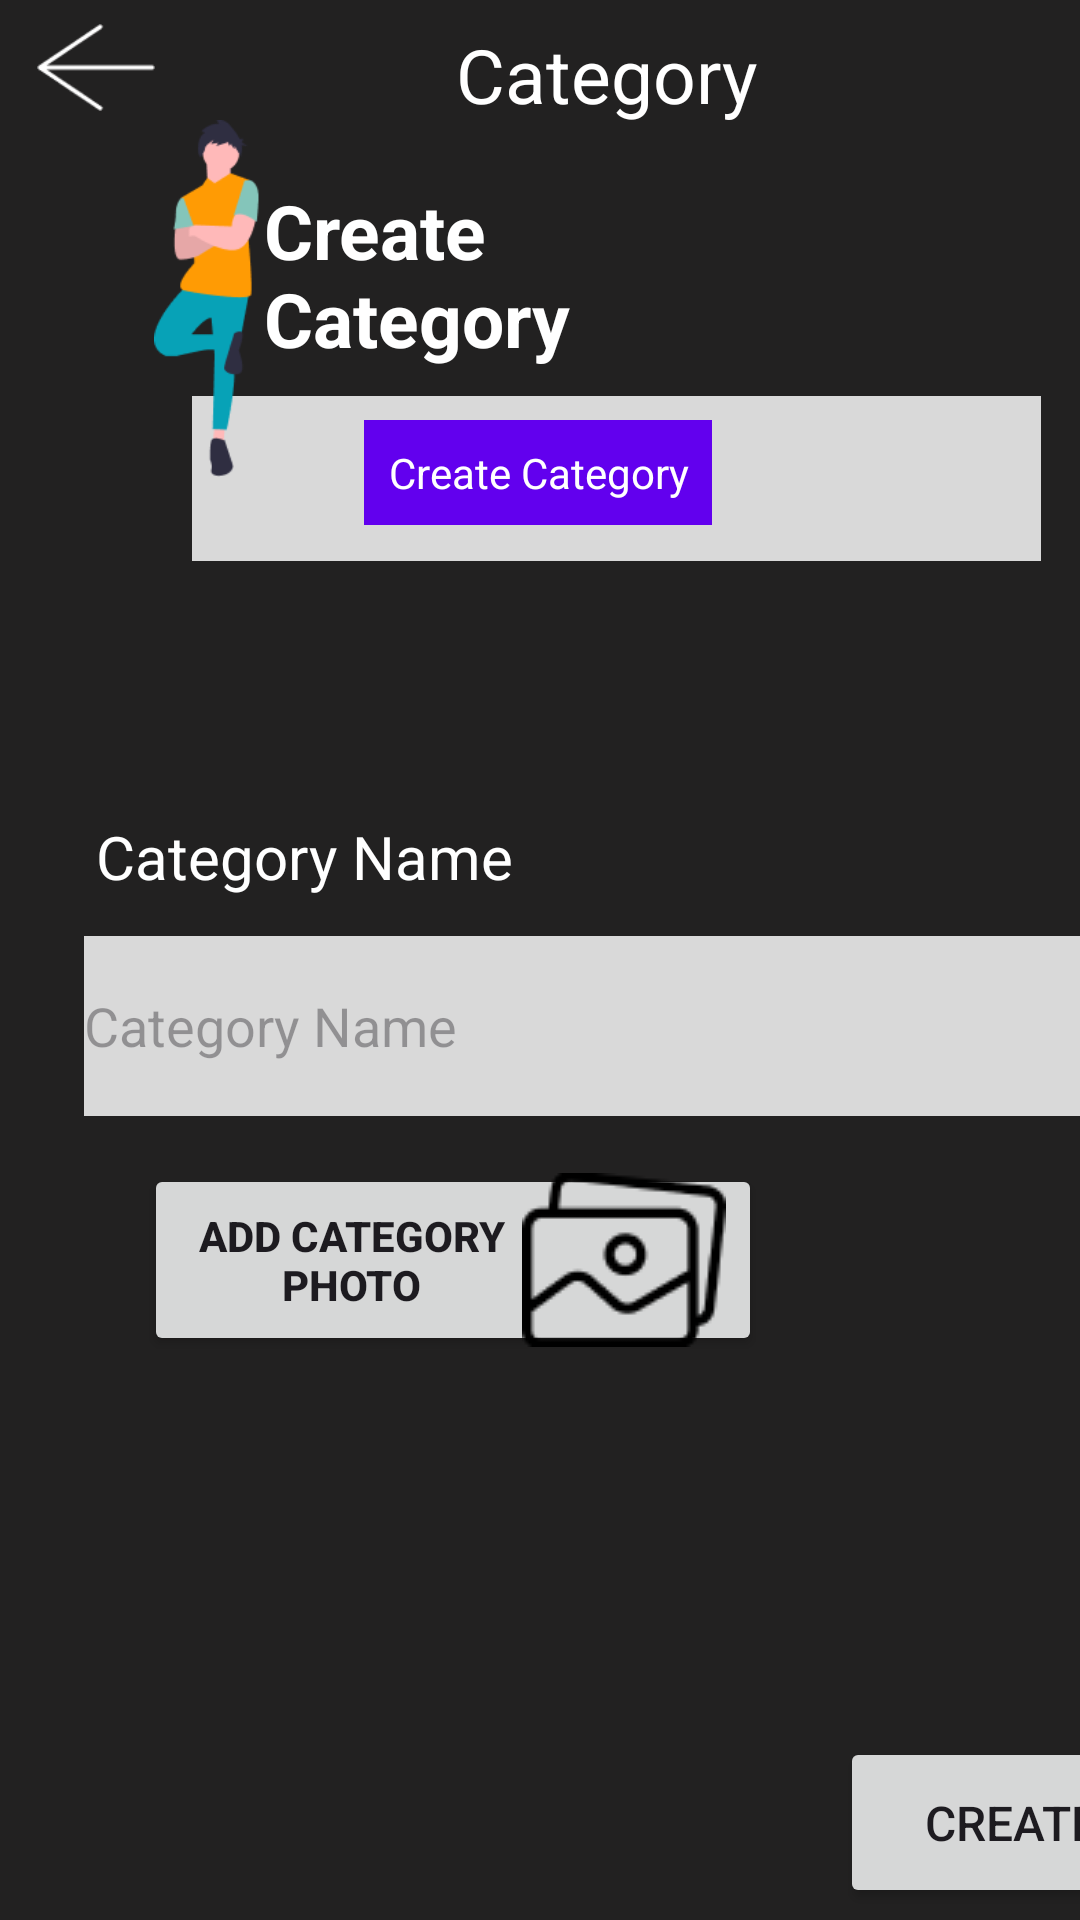

Icon click points for this 1080px×1920px phone screenshot, format (x,y):
person standing: (212,298)
return arrow: (96,67)
